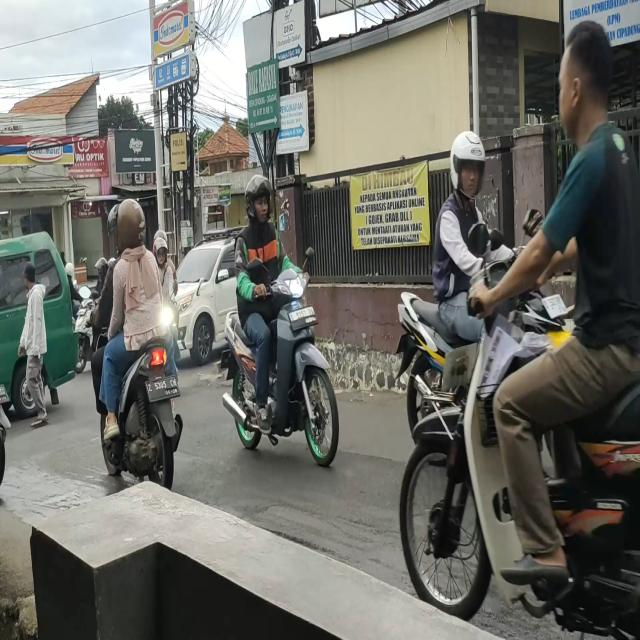helmet: (448, 129, 486, 202), (107, 204, 149, 256), (245, 178, 272, 227), (154, 240, 168, 271)
no-helmet: (558, 38, 611, 128)
